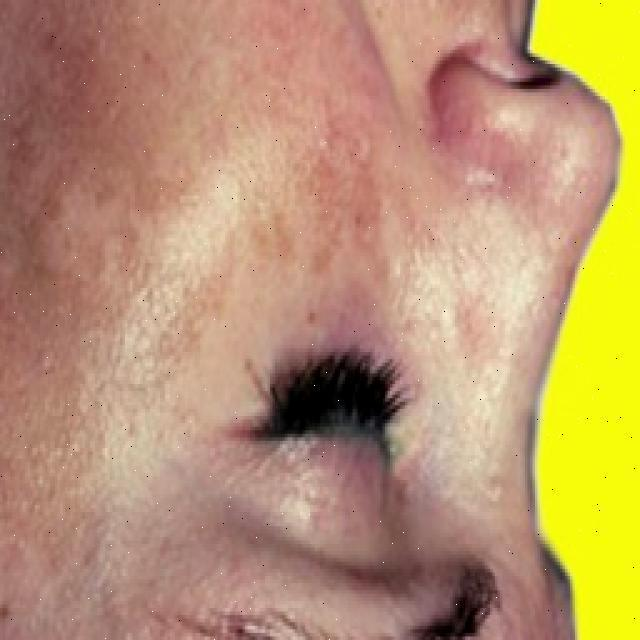Melasma: (4, 3, 458, 345), (3, 371, 123, 640), (515, 135, 597, 273)
